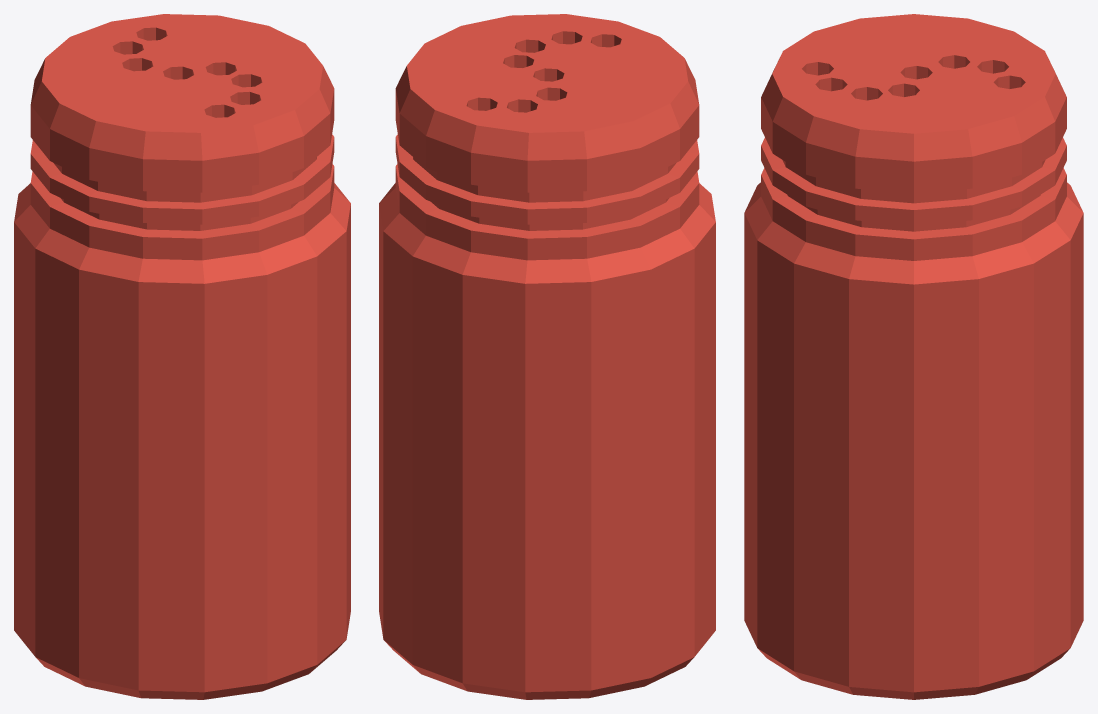
The model's file is salt_shaker_low.fbx.
3 views of the same model, side by side, from view 1: azimuth 30°, elevation 25°; view 2: azimuth 150°, elevation 25°; view 3: azimuth 270°, elevation 25° (orthographic).
Visible parts, largest first — view 1: salt_shaker_low; view 2: salt_shaker_low; view 3: salt_shaker_low.
Part boxes in pixels (x1,y1,x2,y2): salt_shaker_low: (14, 14, 350, 699); salt_shaker_low: (379, 14, 715, 699); salt_shaker_low: (744, 14, 1083, 699).
Bounding box in the file's own units: 4.4 × 7.99 × 4.4.
